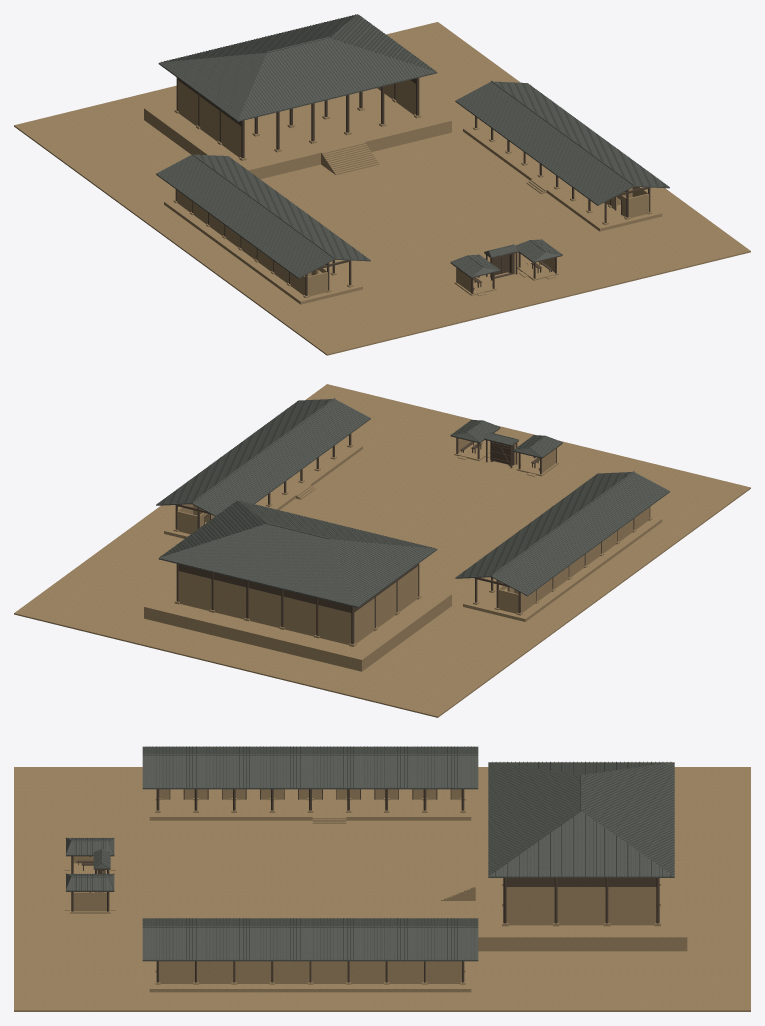
The model's file is palace-admission-court-closed-LOD0.glb.
The picture shows the model from 3 angles, top to bottom: view 1: azimuth 30°, elevation 25°; view 2: azimuth 150°, elevation 25°; view 3: azimuth 270°, elevation 25°; orthographic projection. The views are drawn at different scales.
Visible parts, largest first — view 1: new_court_support_C, hall__deyang-A-static_earth, hall__deyang-A-static_tile, west_gallery__sidehall-A-static_tile, east_gallery__sidehall-A-static_tile, east_gallery__sidehall-A-static_earth, west_gallery__sidehall-A-static_earth, guard__guard-slice-ground-earth, hall__deyang-A-static_timber, guard__guard-slice-west-tile, guard__guard-slice-east-tile, east_gallery__sidehall-A-static_timber (+1 smaller); view 2: new_court_support_C, hall__deyang-A-static_tile, hall__deyang-A-static_earth, west_gallery__sidehall-A-static_tile, east_gallery__sidehall-A-static_tile, west_gallery__sidehall-A-static_earth, guard__guard-slice-ground-earth, east_gallery__sidehall-A-static_earth, hall__deyang-A-static_timber, guard__guard-slice-west-tile, guard__guard-slice-east-tile, guard__guard-slice-west-earth; view 3: new_court_support_C, hall__deyang-A-static_tile, hall__deyang-A-static_earth, east_gallery__sidehall-A-static_tile, west_gallery__sidehall-A-static_tile, east_gallery__sidehall-A-static_earth, west_gallery__sidehall-A-static_earth, guard__guard-slice-ground-earth, hall__deyang-A-static_timber, west_gallery__sidehall-A-static_timber, guard__guard-slice-east-tile, guard__guard-slice-east-earth (+2 smaller).
Boxes of the visible parts, bbox=[...] form: new_court_support_C: bbox=[14, 22, 750, 355]; hall__deyang-A-static_earth: bbox=[144, 80, 451, 179]; hall__deyang-A-static_tile: bbox=[158, 14, 437, 121]; west_gallery__sidehall-A-static_tile: bbox=[156, 153, 370, 278]; east_gallery__sidehall-A-static_tile: bbox=[455, 80, 669, 205]; east_gallery__sidehall-A-static_earth: bbox=[463, 123, 662, 231]; west_gallery__sidehall-A-static_earth: bbox=[164, 190, 362, 304]; guard__guard-slice-ground-earth: bbox=[419, 252, 593, 312]; hall__deyang-A-static_timber: bbox=[176, 77, 419, 158]; guard__guard-slice-west-tile: bbox=[450, 254, 500, 277]; guard__guard-slice-east-tile: bbox=[515, 239, 562, 262]; east_gallery__sidehall-A-static_timber: bbox=[475, 116, 650, 222]; new_court_support_C: bbox=[14, 384, 750, 717]; hall__deyang-A-static_tile: bbox=[158, 500, 437, 607]; hall__deyang-A-static_earth: bbox=[144, 566, 451, 671]; west_gallery__sidehall-A-static_tile: bbox=[455, 471, 669, 596]; east_gallery__sidehall-A-static_tile: bbox=[156, 398, 370, 516]; west_gallery__sidehall-A-static_earth: bbox=[463, 507, 662, 621]; guard__guard-slice-ground-earth: bbox=[419, 432, 593, 492]; east_gallery__sidehall-A-static_earth: bbox=[164, 441, 362, 538]; hall__deyang-A-static_timber: bbox=[176, 563, 419, 644]; guard__guard-slice-west-tile: bbox=[513, 435, 562, 457]; guard__guard-slice-east-tile: bbox=[450, 420, 500, 442]; guard__guard-slice-west-earth: bbox=[516, 449, 558, 476]; new_court_support_C: bbox=[14, 767, 750, 1011]; hall__deyang-A-static_tile: bbox=[488, 761, 674, 877]; hall__deyang-A-static_earth: bbox=[441, 812, 687, 951]; east_gallery__sidehall-A-static_tile: bbox=[142, 918, 478, 961]; west_gallery__sidehall-A-static_tile: bbox=[142, 746, 478, 789]; east_gallery__sidehall-A-static_earth: bbox=[149, 961, 471, 992]; west_gallery__sidehall-A-static_earth: bbox=[149, 789, 471, 823]; guard__guard-slice-ground-earth: bbox=[31, 852, 149, 924]; hall__deyang-A-static_timber: bbox=[503, 878, 659, 923]; west_gallery__sidehall-A-static_timber: bbox=[156, 789, 464, 810]; guard__guard-slice-east-tile: bbox=[66, 873, 114, 891]; guard__guard-slice-east-earth: bbox=[64, 892, 115, 913].
Size of the model in its own units: 68 by 12.74 by 87.
Materials: 9 (9 with a texture image).
